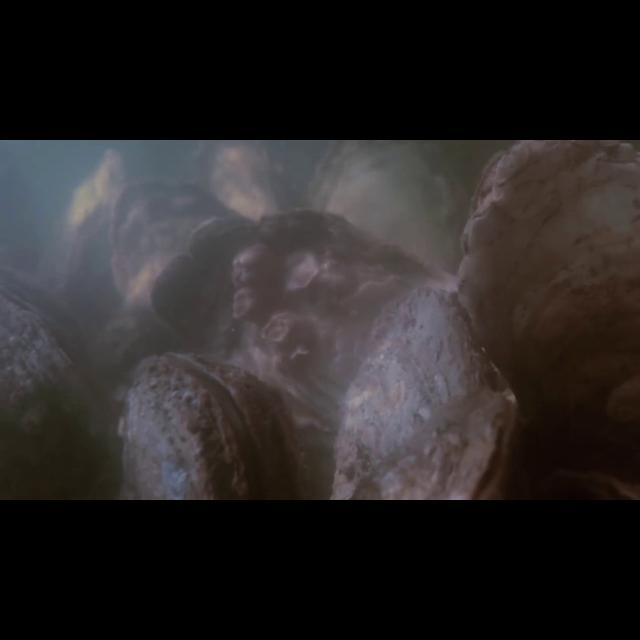Oyster-Closed: (151, 204, 456, 433), (449, 140, 640, 409), (328, 283, 515, 499), (306, 141, 461, 270), (105, 177, 248, 306), (3, 266, 104, 442), (192, 142, 288, 213)
Oyster-Open: (118, 351, 304, 499)
